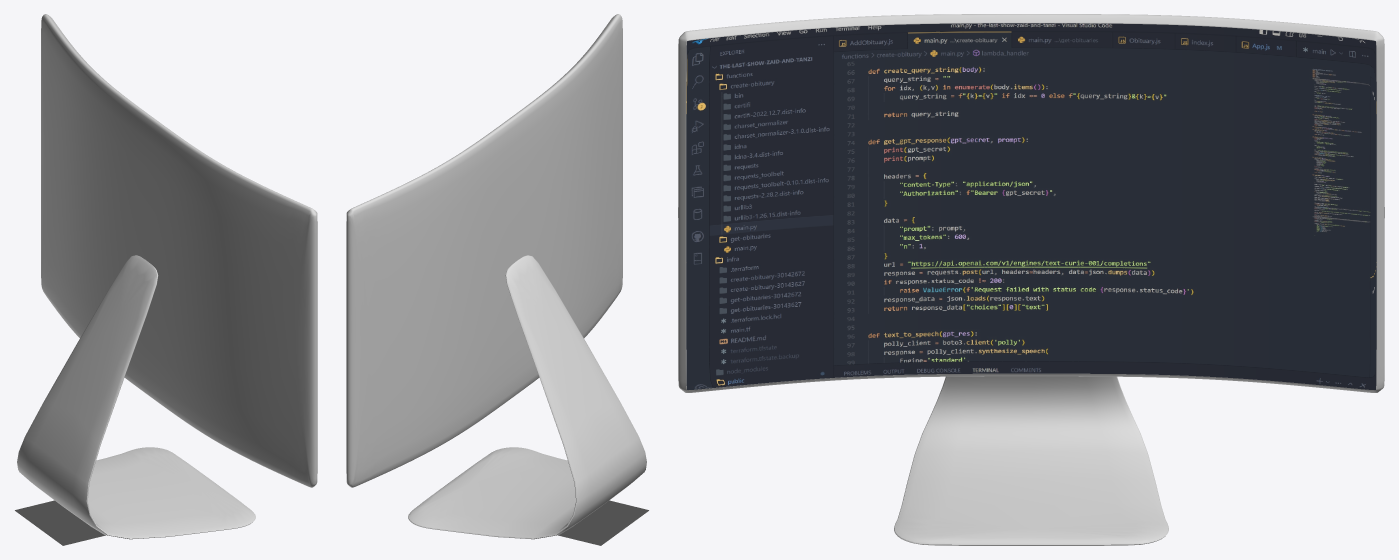
3 views of the same model, side by side, from view 1: azimuth 30°, elevation 25°; view 2: azimuth 150°, elevation 25°; view 3: azimuth 270°, elevation 25° (orthographic). The views are drawn at different scales.
Visible parts, largest first — view 1: Plane.001, Plane, Plane.002; view 2: Plane.001, Plane, Plane.002; view 3: Plane.001, Plane.
Part boxes in pixels (box(x1,y1,x2,y2)): Plane.001: box(41, 14, 317, 487); Plane: box(17, 255, 255, 539); Plane.002: box(15, 500, 105, 545); Plane.001: box(346, 14, 622, 487); Plane: box(408, 255, 646, 539); Plane.002: box(558, 500, 648, 545); Plane.001: box(678, 14, 1384, 392); Plane: box(894, 376, 1168, 545).
Bounding box in the file's own units: 2.72 × 5.69 × 7.34.
Materials: 3 (1 with a texture image).
